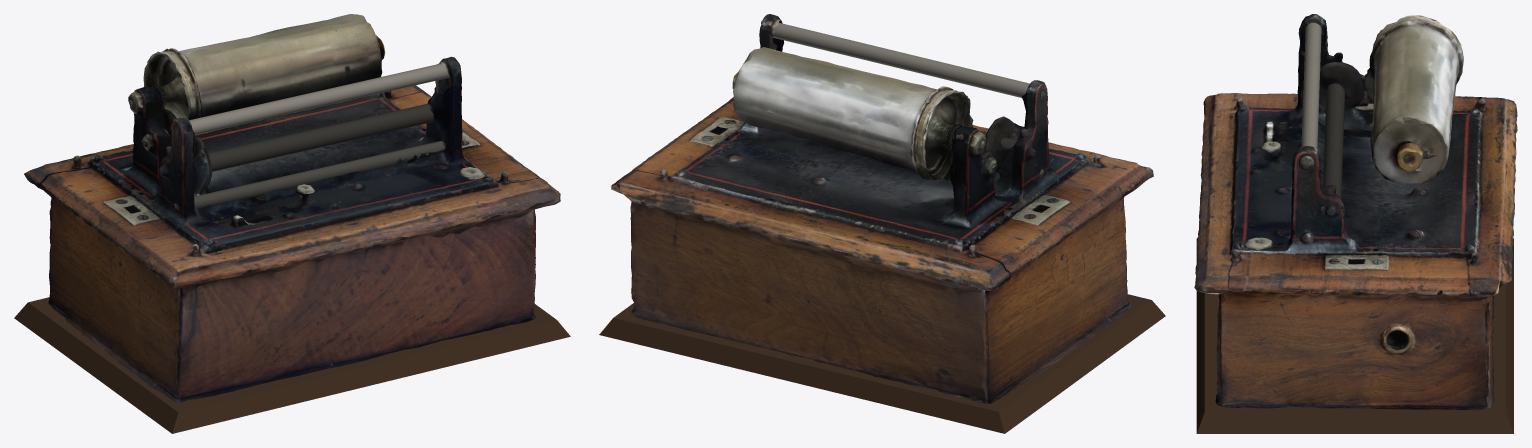
File: phonograph.glb
The picture shows the model from 3 angles, left to right: view 1: azimuth 30°, elevation 25°; view 2: azimuth 150°, elevation 25°; view 3: azimuth 270°, elevation 25°; orthographic projection.
Visible parts, largest first — view 1: base, podium, barra_media, barra_superior, barra_inferior; view 2: base, podium, barra_superior; view 3: base, podium, barra_media, barra_superior.
Boxes of the visible parts, left/top/right/bottom form: base: left=24, top=14, right=560, bottom=402; podium: left=14, top=297, right=570, bottom=433; barra_media: left=208, top=103, right=433, bottom=171; barra_superior: left=189, top=63, right=449, bottom=134; barra_inferior: left=194, top=141, right=444, bottom=208; base: left=611, top=14, right=1153, bottom=403; podium: left=599, top=294, right=1165, bottom=433; barra_superior: left=772, top=23, right=1029, bottom=97; base: left=1194, top=14, right=1517, bottom=409; podium: left=1196, top=237, right=1513, bottom=433; barra_media: left=1322, top=83, right=1344, bottom=220; barra_superior: left=1301, top=23, right=1321, bottom=149.
Bounding box in the file's own units: 0.408 × 0.2681 × 0.2857.
Materials: 5 (1 with a texture image).
